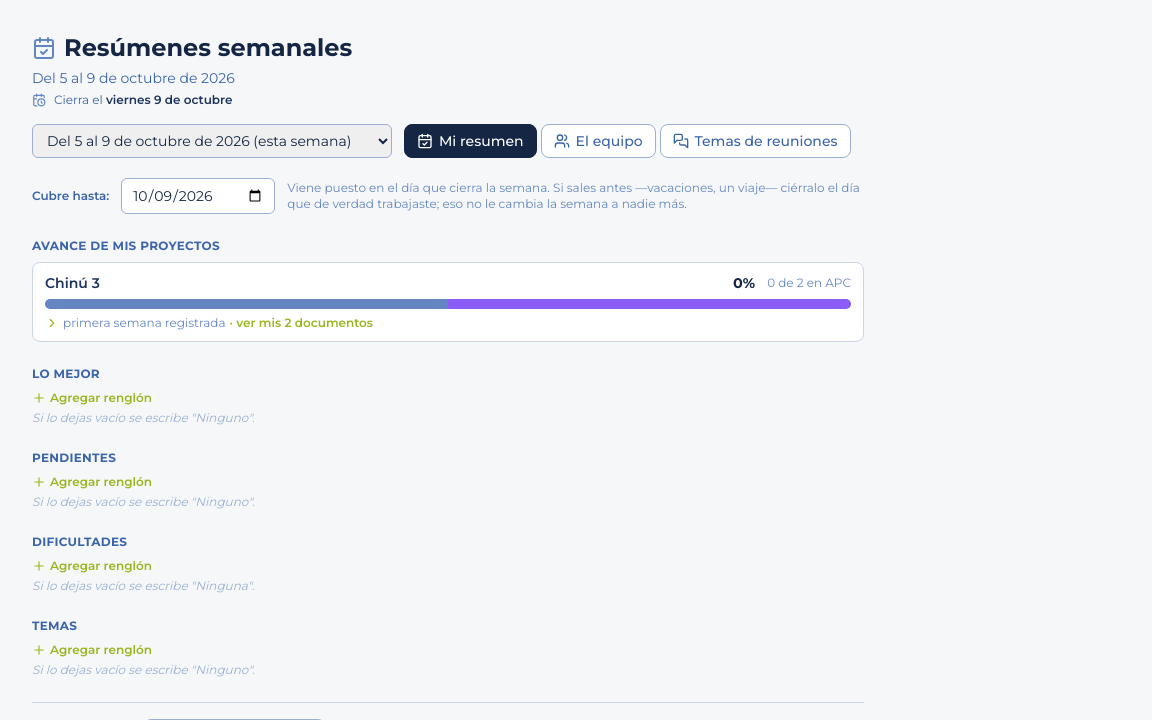
los renglones se queman al escribirlos › al confirmar deja de ser caja de texto y pasa a ser texto
Click the button "Agregar renglón" below "Lo mejor" at (92, 398), box [32, 390, 152, 406]
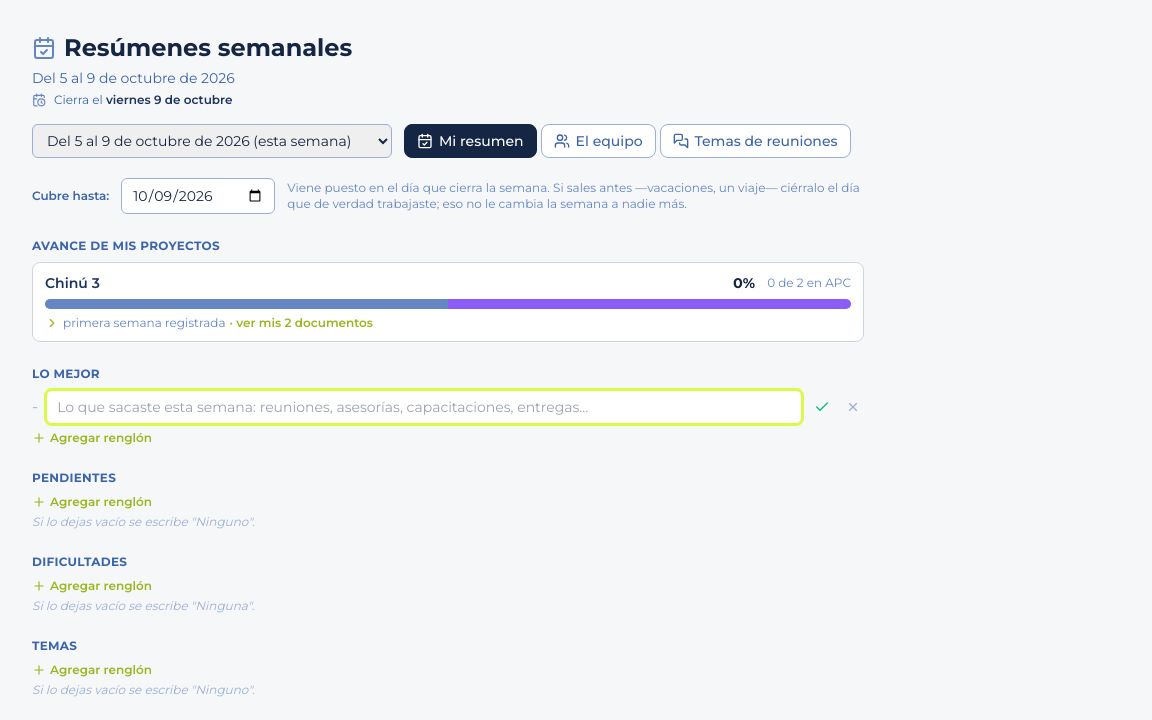
Now the number of fields with placeholder "Lo que sacaste esta semana" is 1
Replace the text in the field with placeholder "Lo que sacaste esta semana" with "Mesa técnica" at (424, 407), box [46, 390, 802, 424]
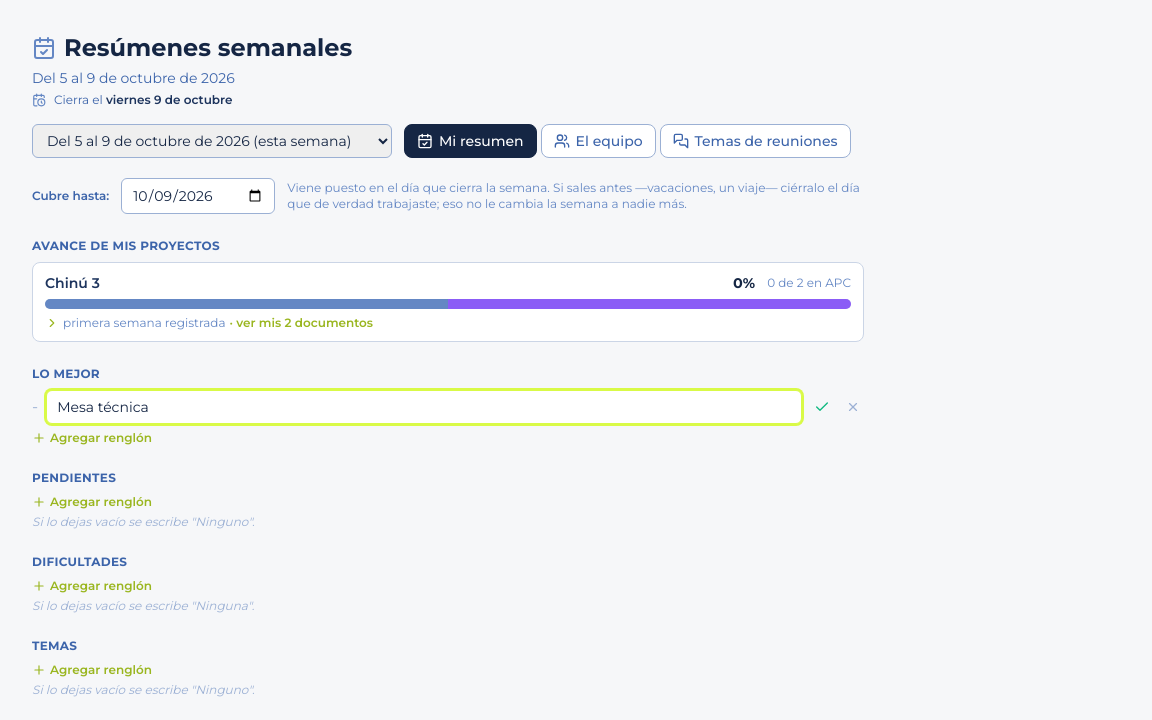
Click the button titled "Listo (o pulsa Enter)" at (822, 407), box [810, 395, 834, 419]
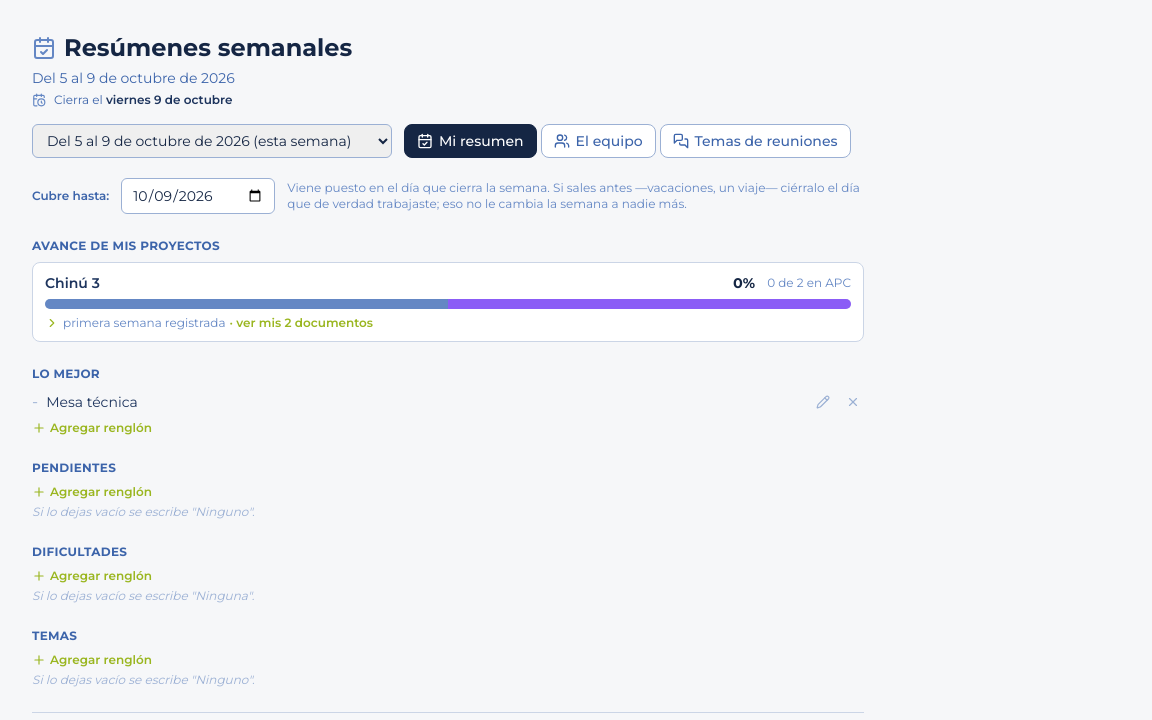
Now the text "Mesa técnica" is shown, box [46, 393, 138, 411]
